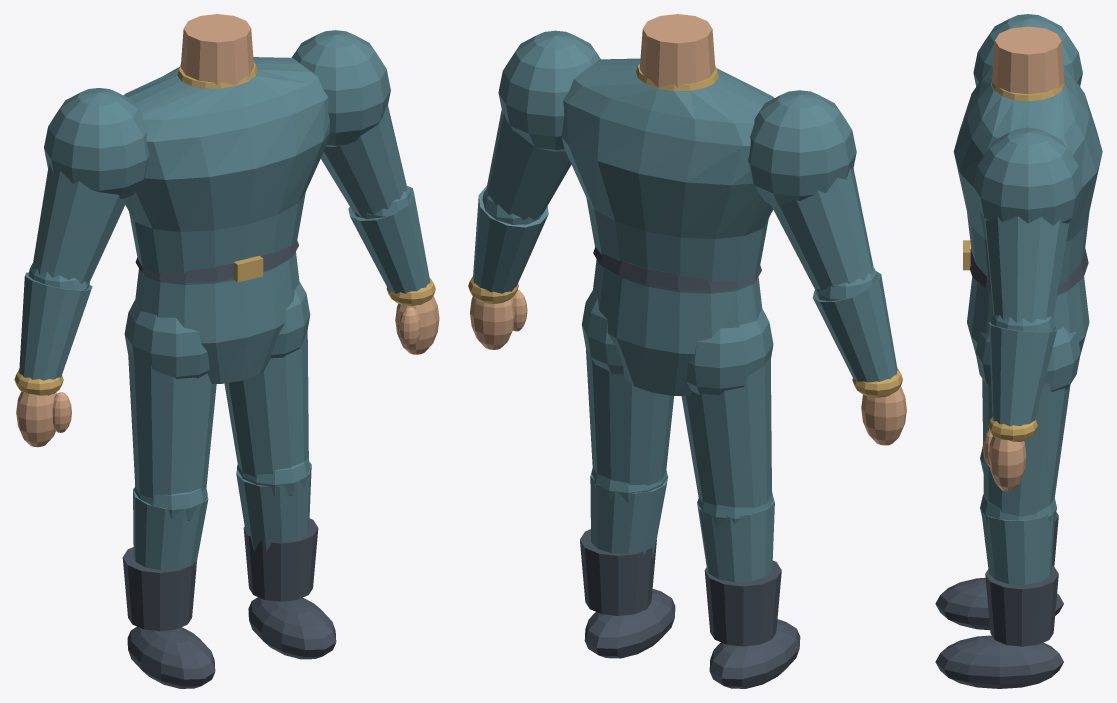
The model's file is male-body.glb.
3 renders of one model, left to right at view 1: azimuth 30°, elevation 25°; view 2: azimuth 150°, elevation 25°; view 3: azimuth 270°, elevation 25°, orthographic. The views are drawn at different scales.
Parts seen in each view (by area): view 1: Torso and hips, Thigh (×2), Shoulder (×2), Upper sleeve (×2), Forearm sleeve (×2), Boot shaft (×2), Boot foot (×2), Shin (×2), Hip (×2), Neck, Hand (×2), Knee (×2) (+5 smaller); view 2: Torso and hips, Thigh (×2), Shoulder (×2), Upper sleeve (×2), Forearm sleeve (×2), Boot shaft (×2), Shin (×2), Boot foot (×2), Hip (×2), Neck, Hand (×2), Waist belt (+3 smaller); view 3: Torso and hips, Shoulder (×2), Boot foot (×2), Upper sleeve, Thigh, Forearm sleeve, Boot shaft, Shin, Neck, Hip, Hand, Waist belt (+4 smaller).
Boxes of the visible parts, x1,y1,x2,y2 form: Torso and hips: (123, 57, 329, 383); Thigh (×2): (128, 331, 308, 498); Shoulder (×2): (44, 30, 390, 198); Upper sleeve (×2): (32, 106, 407, 284); Forearm sleeve (×2): (19, 186, 430, 380); Boot shaft (×2): (122, 518, 318, 631); Boot foot (×2): (127, 597, 336, 688); Shin (×2): (133, 462, 311, 570); Hip (×2): (124, 282, 310, 378); Neck: (180, 14, 253, 85); Hand (×2): (16, 295, 439, 447); Knee (×2): (134, 457, 310, 520); Torso and hips: (561, 58, 774, 395); Thigh (×2): (585, 347, 771, 507); Shoulder (×2): (498, 30, 856, 207); Upper sleeve (×2): (486, 110, 873, 291); Forearm sleeve (×2): (473, 186, 897, 382); Boot shaft (×2): (580, 529, 781, 646); Shin (×2): (590, 468, 774, 582); Boot foot (×2): (584, 589, 800, 688); Hip (×2): (581, 290, 773, 395); Neck: (639, 14, 715, 87); Hand (×2): (470, 297, 906, 445); Waist belt: (593, 247, 761, 291); Torso and hips: (953, 64, 1102, 354); Shoulder (×2): (973, 14, 1082, 225); Boot foot (×2): (935, 577, 1063, 688); Upper sleeve: (984, 216, 1069, 323); Thigh: (982, 379, 1070, 516); Forearm sleeve: (989, 322, 1056, 426); Boot shaft: (985, 565, 1058, 646); Shin: (981, 511, 1054, 584); Neck: (991, 26, 1064, 94); Hip: (975, 327, 1080, 391); Hand: (988, 436, 1026, 491); Waist belt: (970, 248, 1088, 293).
Size of the model in its own units: 1.09 by 1.55 by 0.382.
